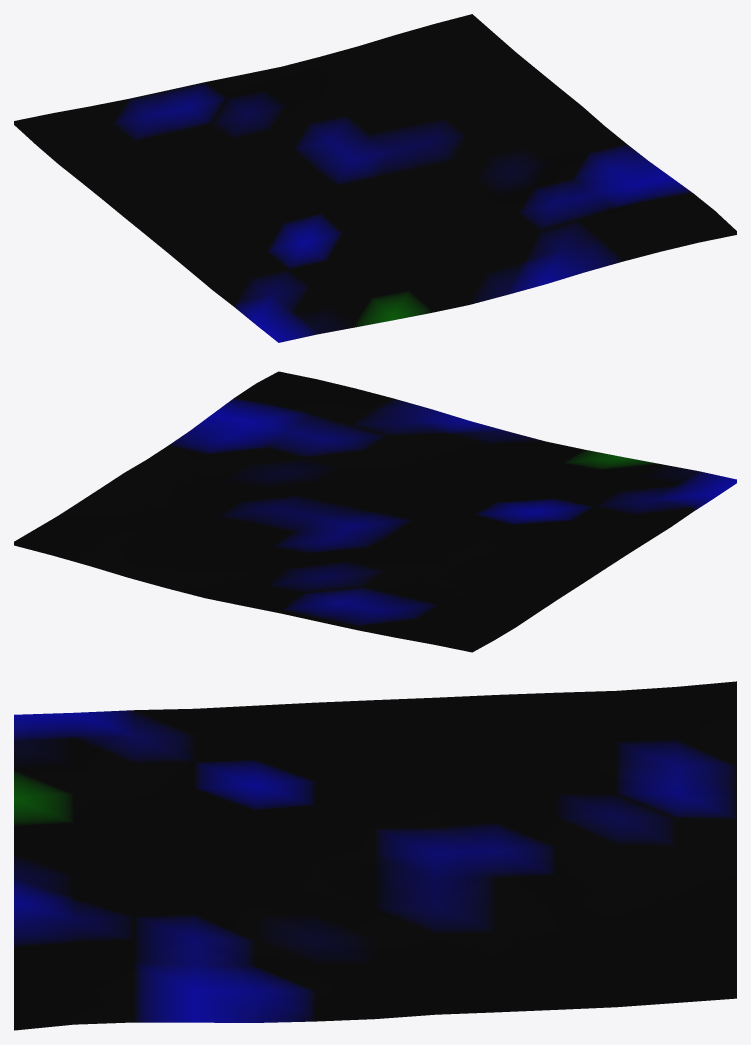
File: coast_12_4.glb
3 renders of one model, top to bottom at view 1: azimuth 30°, elevation 25°; view 2: azimuth 150°, elevation 25°; view 3: azimuth 270°, elevation 25°, orthographic. The views are drawn at different scales.
Visible parts, largest first — view 1: terrain; view 2: terrain; view 3: terrain.
Boxes of the visible parts, x1=… form: terrain: x1=14, y1=14, x2=736, y2=342; terrain: x1=14, y1=371, x2=736, y2=652; terrain: x1=14, y1=681, x2=736, y2=1030.
Size of the model in its own units: 192 by 14.72 by 192.
